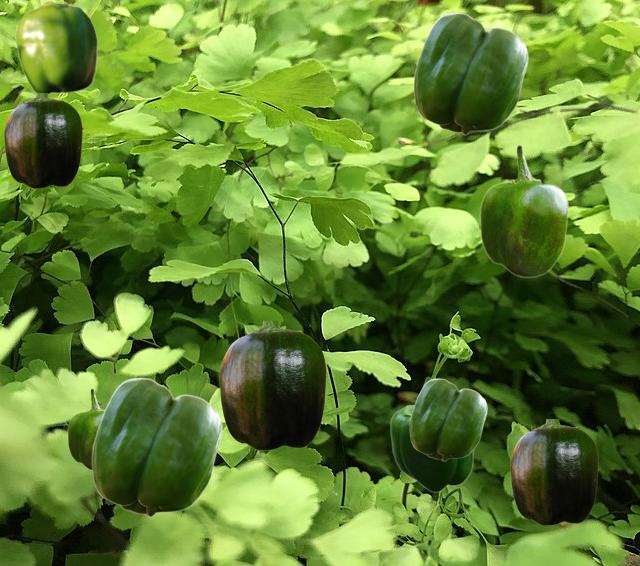bell_pepper: (91, 377, 221, 516), (413, 12, 527, 134), (219, 321, 325, 449), (479, 144, 568, 277), (389, 376, 473, 492), (510, 419, 597, 524), (15, 0, 97, 94), (4, 93, 81, 187), (409, 378, 486, 460), (67, 388, 103, 470)
